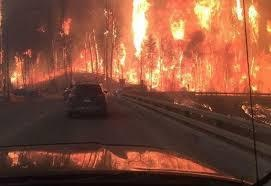fire: (130, 0, 149, 58)
